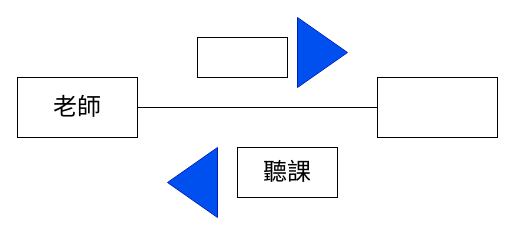
This 515x235 diagram has some shape labels left out. Each missing label, with the centre of its shape:
學生: point (437, 107)
教導: point (242, 57)
